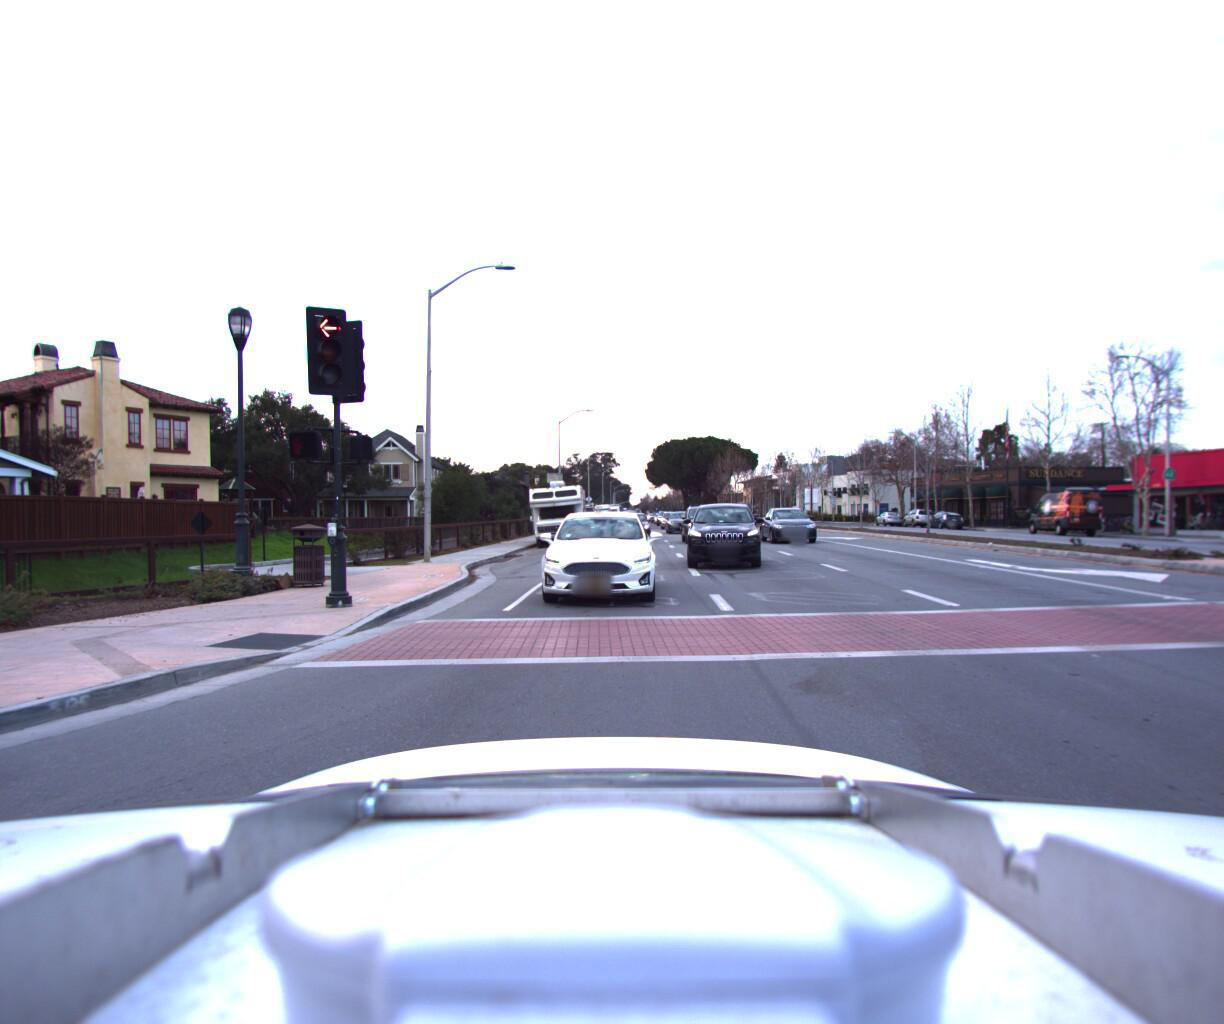car: (533, 507, 654, 609), (681, 486, 758, 569), (766, 501, 831, 542), (680, 498, 727, 542), (635, 509, 674, 540), (652, 509, 686, 535), (896, 506, 935, 526), (922, 508, 962, 527), (871, 508, 900, 524)
truck: (521, 475, 589, 546), (1019, 487, 1101, 533)
